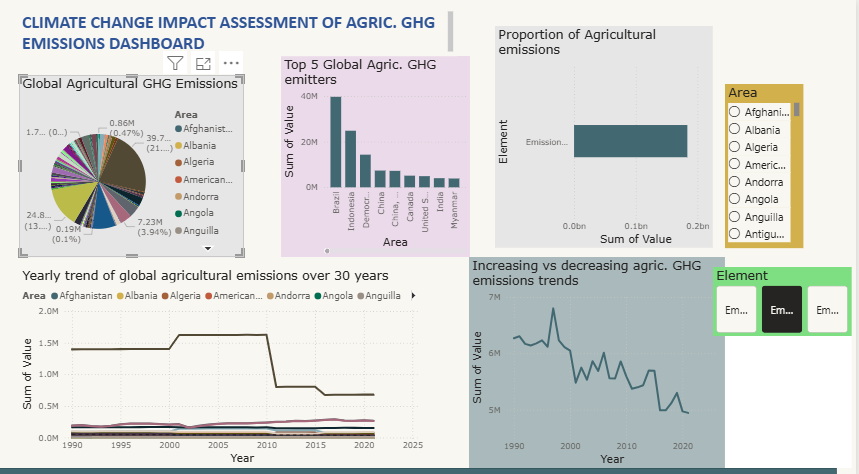

The page's visual inventory and layout, read from the dashboard file:
{"tool":"powerbi","page":{"name":"Page 1","canvas":[1280,720],"ordinal":0},"visuals":[{"type":"textbox","box":[100,100,300,300],"z":1000},{"type":"shape","box":[0,700,1251.7,20],"z":2000},{"type":"pieChart","title":"Global Agricultural GHG Emissions ","fields":{"Y":["Sum(Clean dataset-power query.Value)"],"Series":["Clean dataset-power query.Area"]},"box":[31.7,113.3,335,271.7],"z":3000},{"type":"columnChart","title":"Top 5 Global Agric. GHG emitters","fields":{"Category":["Clean dataset-power query.Area"],"Y":["Sum(Clean dataset-power query.Value)"]},"box":[421.7,85,281.7,300],"z":4000},{"type":"lineChart","title":"Increasing vs decreasing agric. GHG emissions trends","fields":{"Y":["Sum(Clean dataset-power query.Value)"],"Category":["Clean dataset-power query.Year"]},"box":[703.3,385,381.7,315],"z":5000},{"type":"barChart","title":"Proportion of Agricultural emissions","fields":{"Category":["Clean dataset-power query.Element"],"Y":["Sum(Clean dataset-power query.Value)"]},"box":[766.7,40,300,320],"z":6000},{"type":"lineChart","title":"Yearly trend of global agricultural emissions over 30 years","fields":{"Category":["Clean dataset-power query.Year"],"Series":["Clean dataset-power query.Area"],"Y":["Sum(Clean dataset-power query.Value)"]},"box":[31.7,400,608.3,300],"z":7000},{"type":"listSlicer","fields":{"Values":["Clean dataset-power query.Area"]},"box":[1085,126.7,116.7,245],"z":7001},{"type":"advancedSlicerVisual","fields":{"Values":["Clean dataset-power query.Element"]},"box":[1066.7,400,206.7,103.3],"z":7002},{"type":"textbox","box":[1085,503,189,197],"z":7003},{"type":"textbox","box":[31.7,13.3,653.3,71.7],"z":7004}]}

Visuals, with their boxes in screenshot pixels (x1, y1, x2, y2), scaled from the page's 1280x720 canvas onto the 859x474 screenshot:
textbox: 67,66,268,263
shape: 0,461,840,473
"Global Agricultural GHG Emissions " pieChart: 21,75,246,253
"Top 5 Global Agric. GHG emitters" columnChart: 283,56,472,253
"Increasing vs decreasing agric. GHG emissions trends" lineChart: 472,253,728,461
"Proportion of Agricultural emissions" barChart: 515,26,716,237
"Yearly trend of global agricultural emissions over 30 years" lineChart: 21,263,430,461
listSlicer - Clean dataset-power query.Area: 728,83,806,245
advancedSlicerVisual - Clean dataset-power query.Element: 716,263,855,331
textbox: 728,331,855,461
textbox: 21,9,460,56
